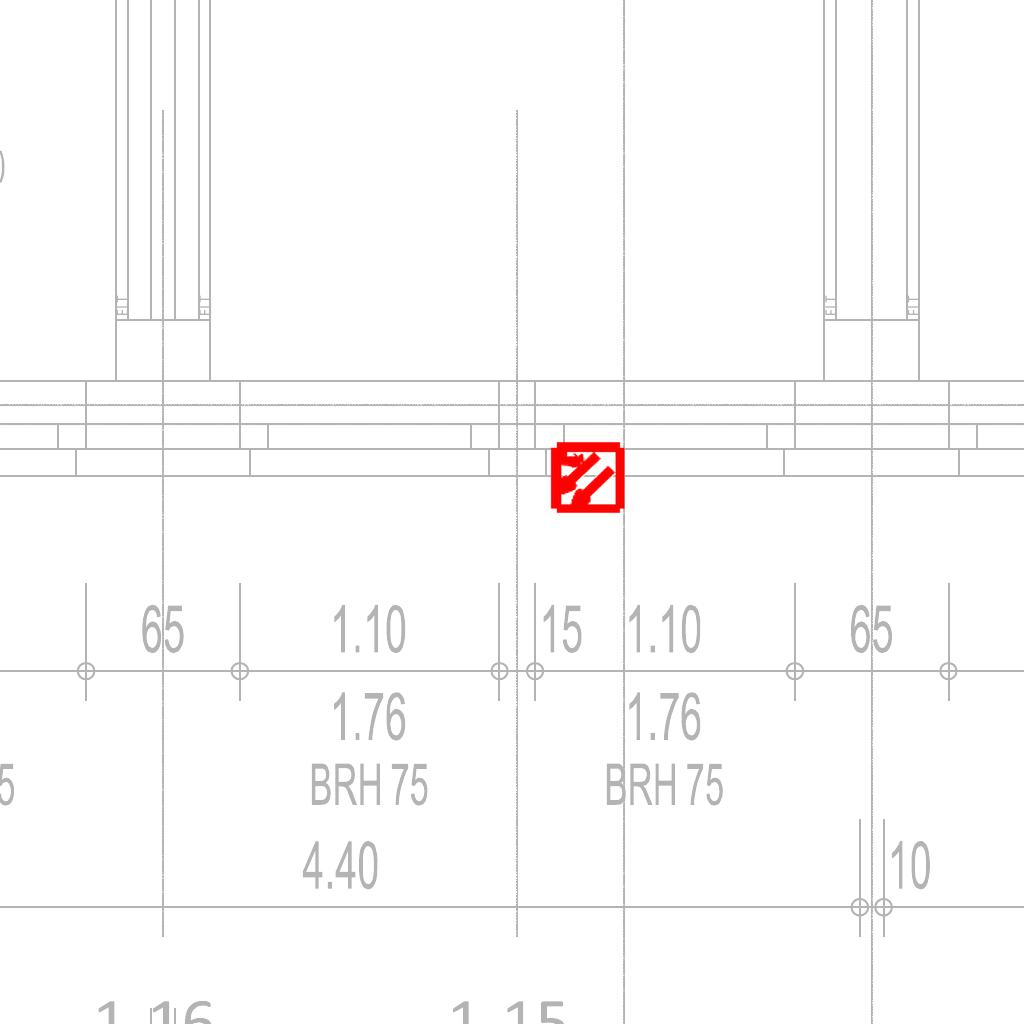OT_Multisensormelder_(Kombination_RMO_WMD): (529, 421, 642, 534)
